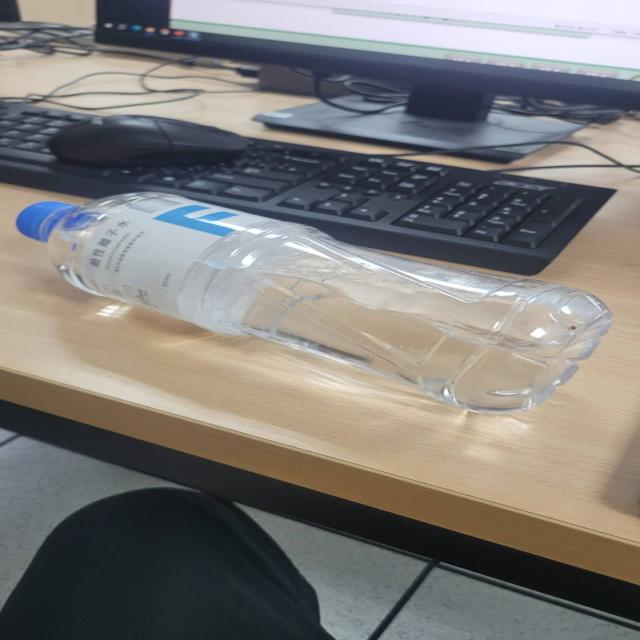PET bottle: (15, 194, 621, 418)
